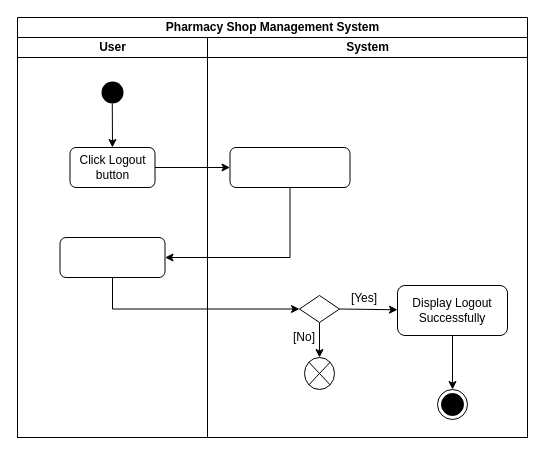
Some shapes in this 545 by 455 pixel diagram are drawn without their labels. The shapes that lost their labels are listed below. From the top down, each one's centre as x and y in pixels, then its label:
At point 289,167: "Display Confirmation Message".
At point 112,257: "Enter Choice".
